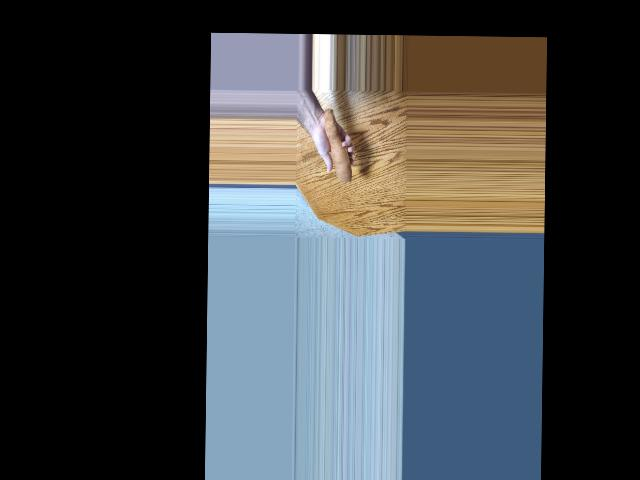sweet_potato: (323, 101, 355, 183)
